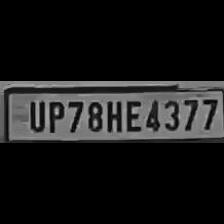3: (162, 97, 180, 131)
4: (142, 97, 162, 131)
7: (64, 97, 82, 132), (180, 96, 198, 130), (199, 96, 217, 130)
8: (84, 97, 104, 132)
E: (122, 97, 142, 132)
H: (104, 97, 122, 132)
P: (44, 97, 64, 132)
U: (23, 98, 44, 132)
